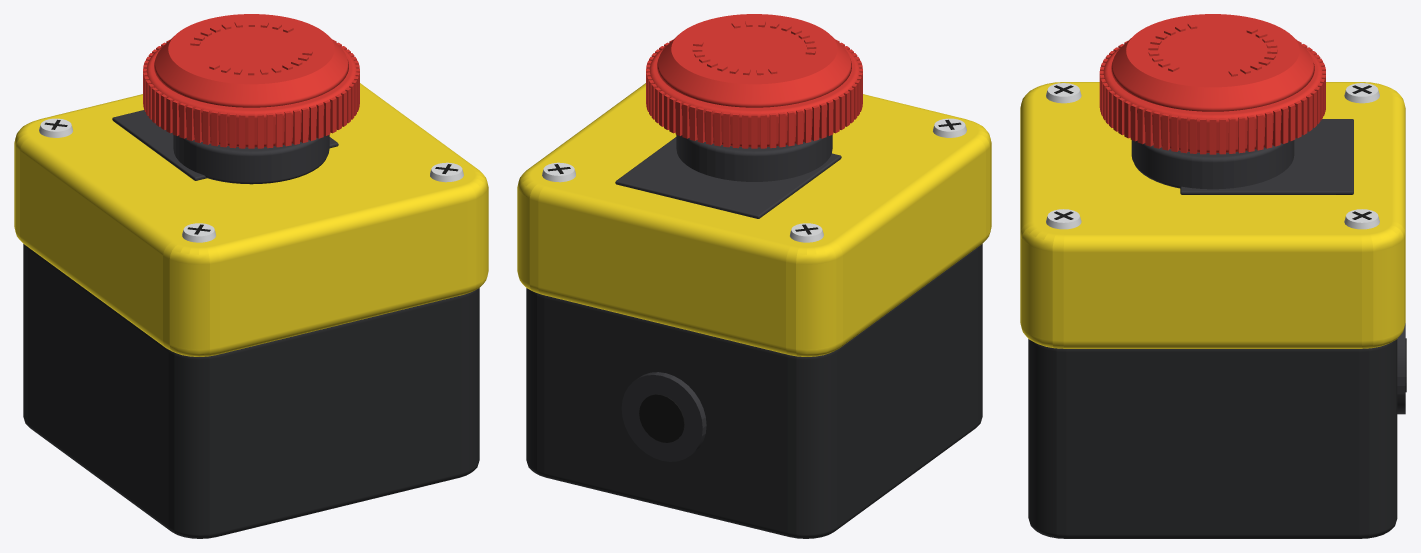
File: estop.glb
3 renders of one model, left to right at view 1: azimuth 30°, elevation 25°; view 2: azimuth 150°, elevation 25°; view 3: azimuth 270°, elevation 25°, orthographic. The views are drawn at different scales.
Parts seen in each view (by area): view 1: Caixa, Tampa, Cogumelo_Topo, Colar, Cogumelo, Placa; view 2: Caixa, Tampa, Cogumelo_Topo, Placa, Colar, Passa_Cabo, Cogumelo, Passa_Cabo_Furo; view 3: Tampa, Caixa, Cogumelo_Topo, Placa, Colar, Cogumelo, Passa_Cabo, Parafuso.028, Parafuso.029, Parafuso.026, Parafuso.027.
Boxes of the visible parts, left/top/right/bottom form: Caixa: left=23, top=244, right=479, bottom=538; Tampa: left=14, top=83, right=488, bottom=356; Cogumelo_Topo: left=154, top=14, right=348, bottom=107; Colar: left=173, top=135, right=329, bottom=184; Cogumelo: left=146, top=45, right=356, bottom=147; Placa: left=112, top=110, right=338, bottom=180; Caixa: left=526, top=244, right=982, bottom=538; Tampa: left=517, top=83, right=991, bottom=356; Cogumelo_Topo: left=657, top=14, right=851, bottom=107; Placa: left=615, top=137, right=841, bottom=218; Colar: left=676, top=135, right=832, bottom=181; Passa_Cabo: left=621, top=372, right=706, bottom=461; Cogumelo: left=649, top=45, right=859, bottom=147; Passa_Cabo_Furo: left=639, top=394, right=684, bottom=442; Tampa: left=1020, top=82, right=1405, bottom=348; Caixa: left=1028, top=339, right=1397, bottom=538; Cogumelo_Topo: left=1111, top=14, right=1314, bottom=111; Placa: left=1180, top=119, right=1353, bottom=194; Colar: left=1131, top=140, right=1294, bottom=189; Cogumelo: left=1103, top=47, right=1322, bottom=152; Passa_Cabo: left=1397, top=323, right=1405, bottom=414; Parafuso.028: left=1046, top=209, right=1081, bottom=229; Parafuso.029: left=1344, top=209, right=1379, bottom=229; Parafuso.026: left=1046, top=83, right=1081, bottom=103; Parafuso.027: left=1344, top=83, right=1379, bottom=103.
Size of the model in its own units: 71 by 84.7 by 71.2.
